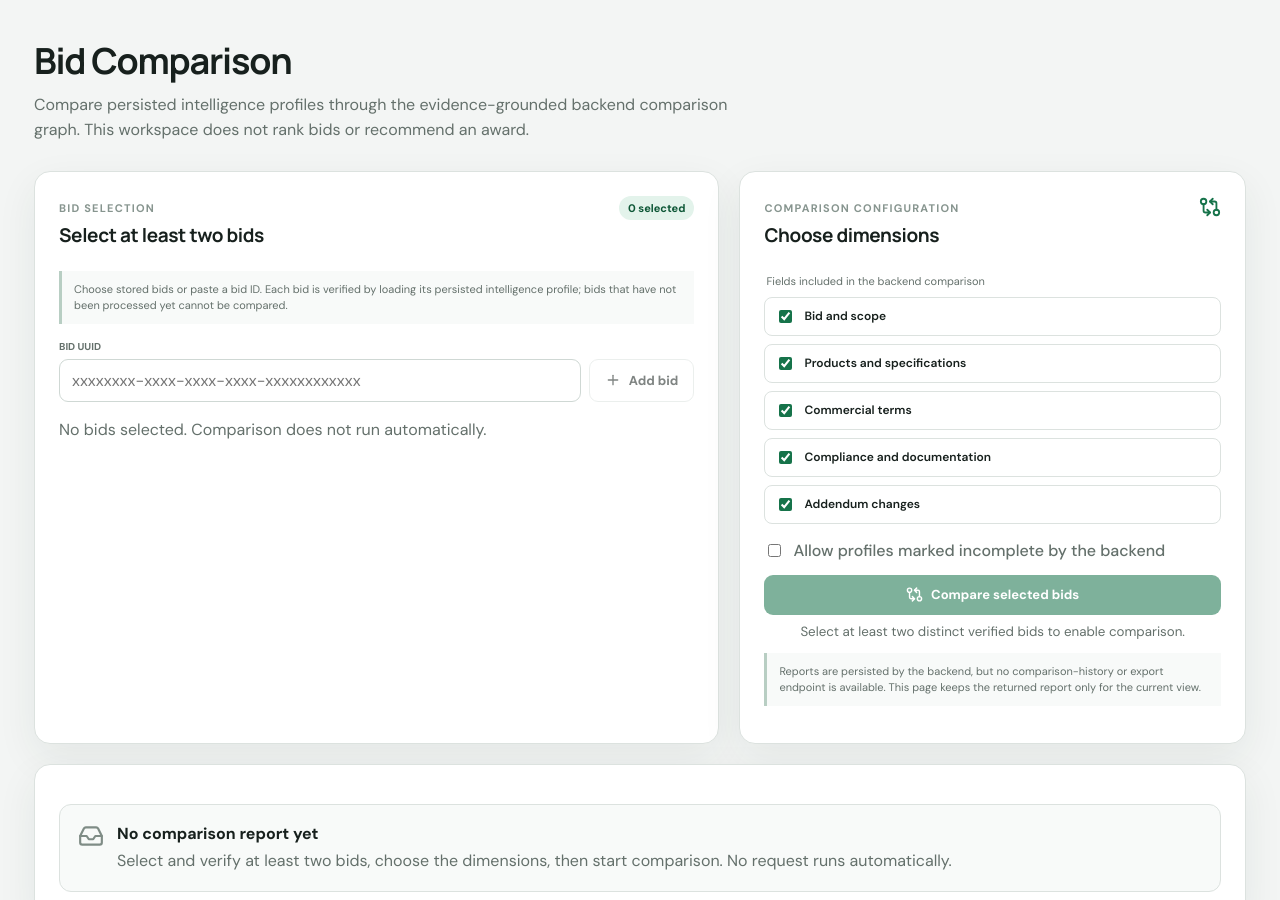
Test: Bid Comparison page › verifies stable bid IDs, prevents duplicates, and requires two bids
Expected: the text "Choose stored bids or paste a bid ID" is shown, left=74, top=282, right=676, bottom=312
Expected: the button "Compare selected bids" is disabled, left=764, top=575, right=1221, bottom=615
Type "11111111-1111-4111-8111-111111111111" into the field labelled "Bid UUID".
click(320, 380); type("11111111-1111-4111-8111-111111111111")  # box left=59, top=359, right=581, bottom=402
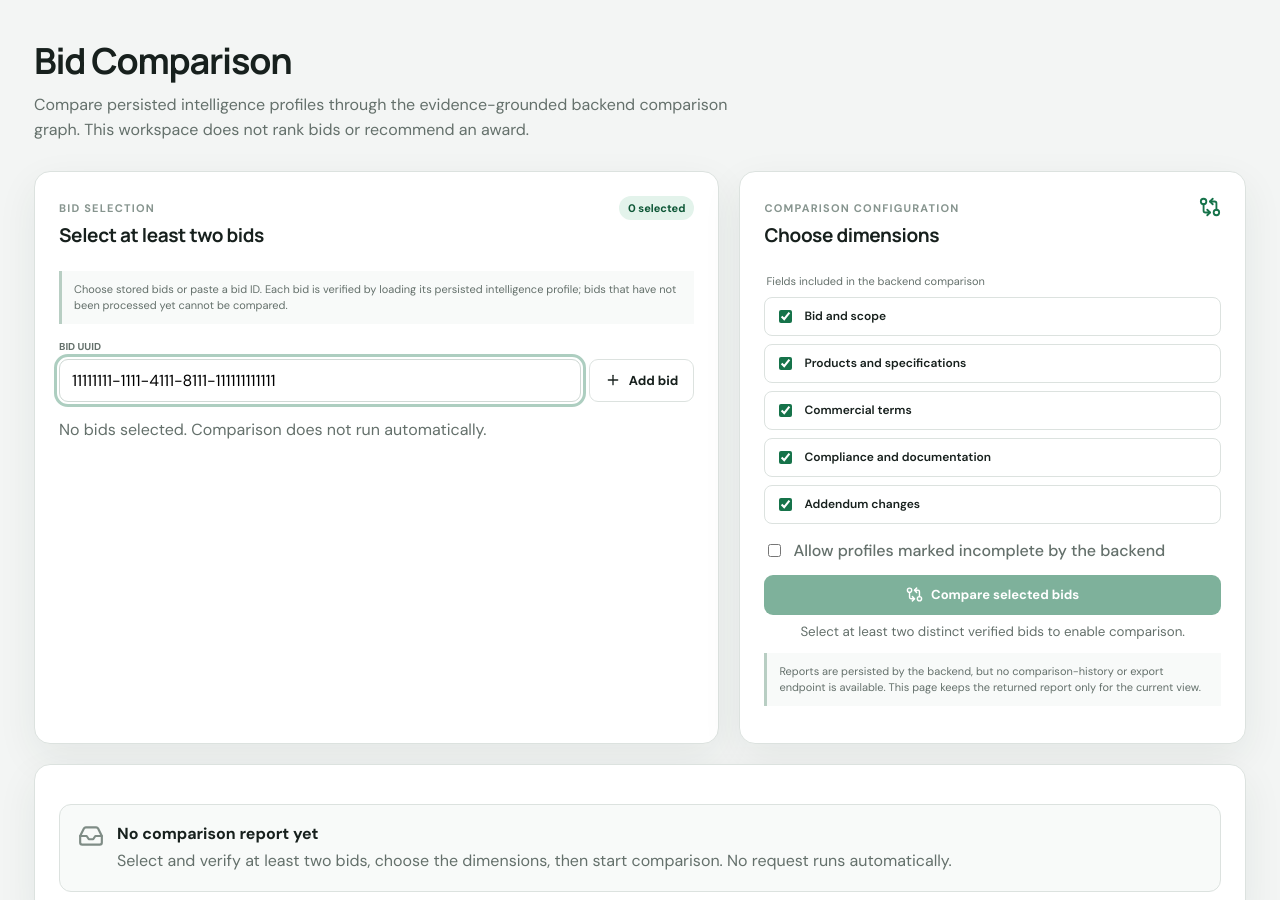
Click the button "Add bid".
click(642, 380)  # box left=589, top=359, right=694, bottom=402
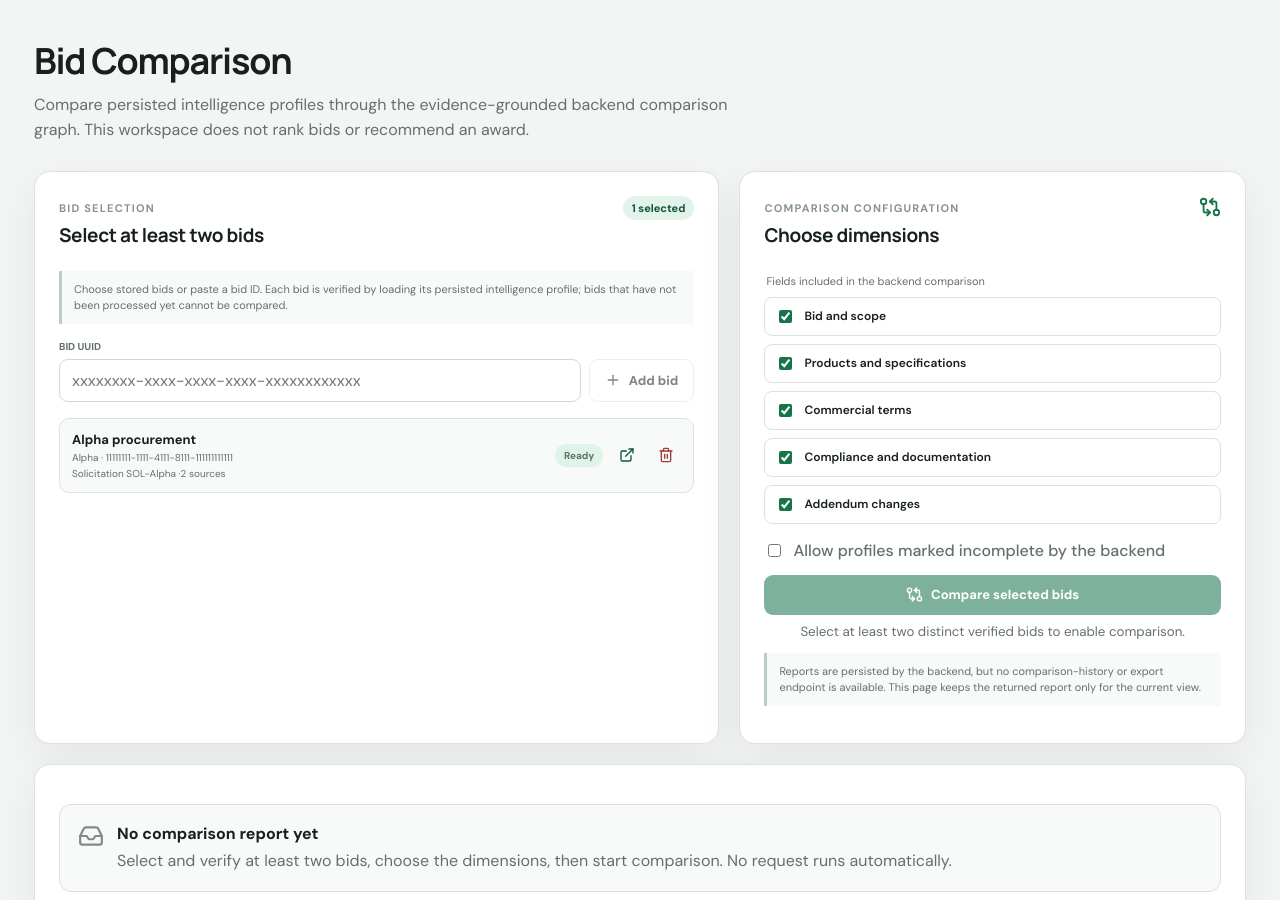
Expected: the button "Compare selected bids" is disabled, left=764, top=575, right=1221, bottom=615
Now the text "Alpha procurement" is shown, box left=72, top=431, right=196, bottom=448
Type "11111111-1111-4111-8111-111111111111" into the field labelled "Bid UUID".
click(320, 380); type("11111111-1111-4111-8111-111111111111")  # box left=59, top=359, right=581, bottom=402
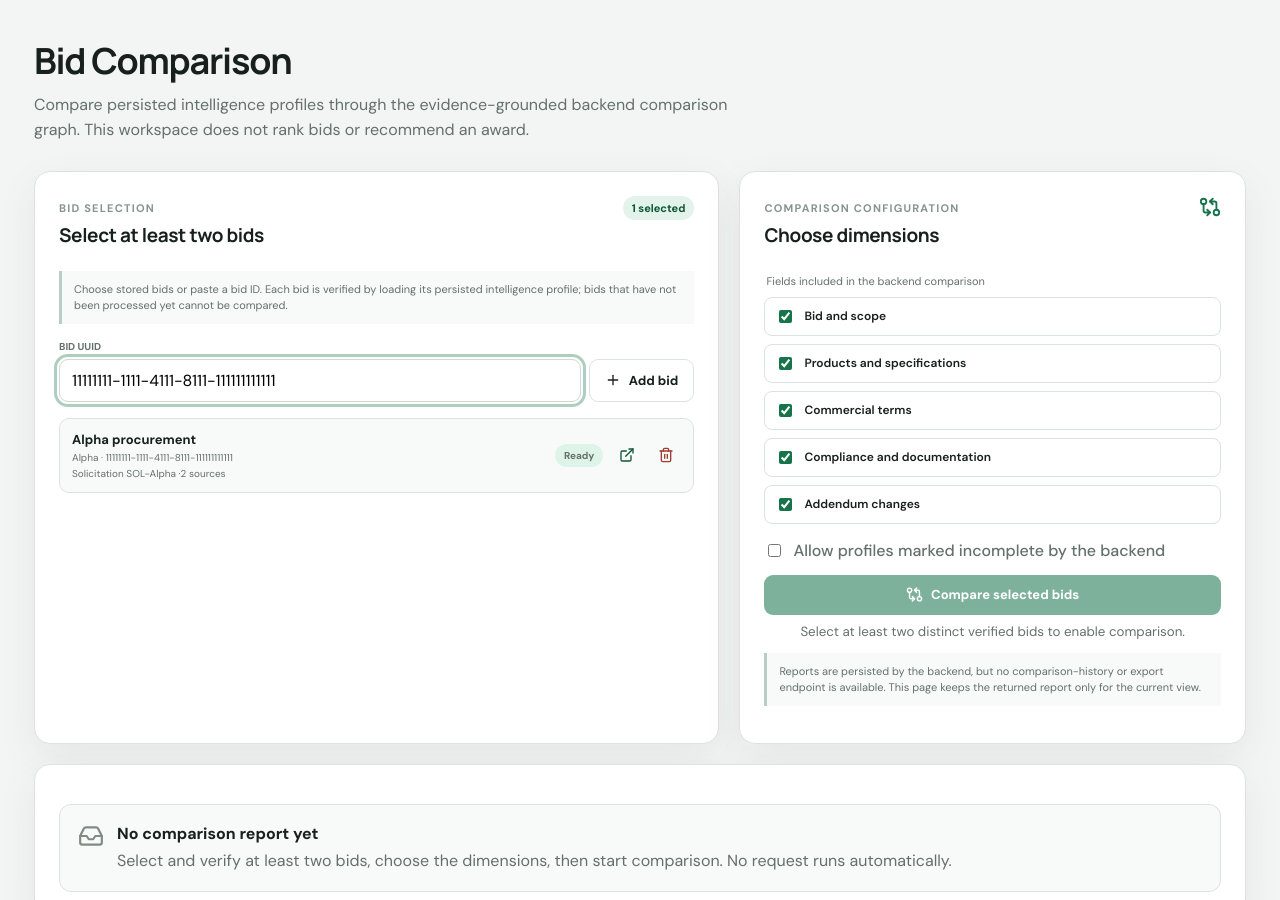
Click the button "Add bid".
click(642, 380)  # box left=589, top=359, right=694, bottom=402
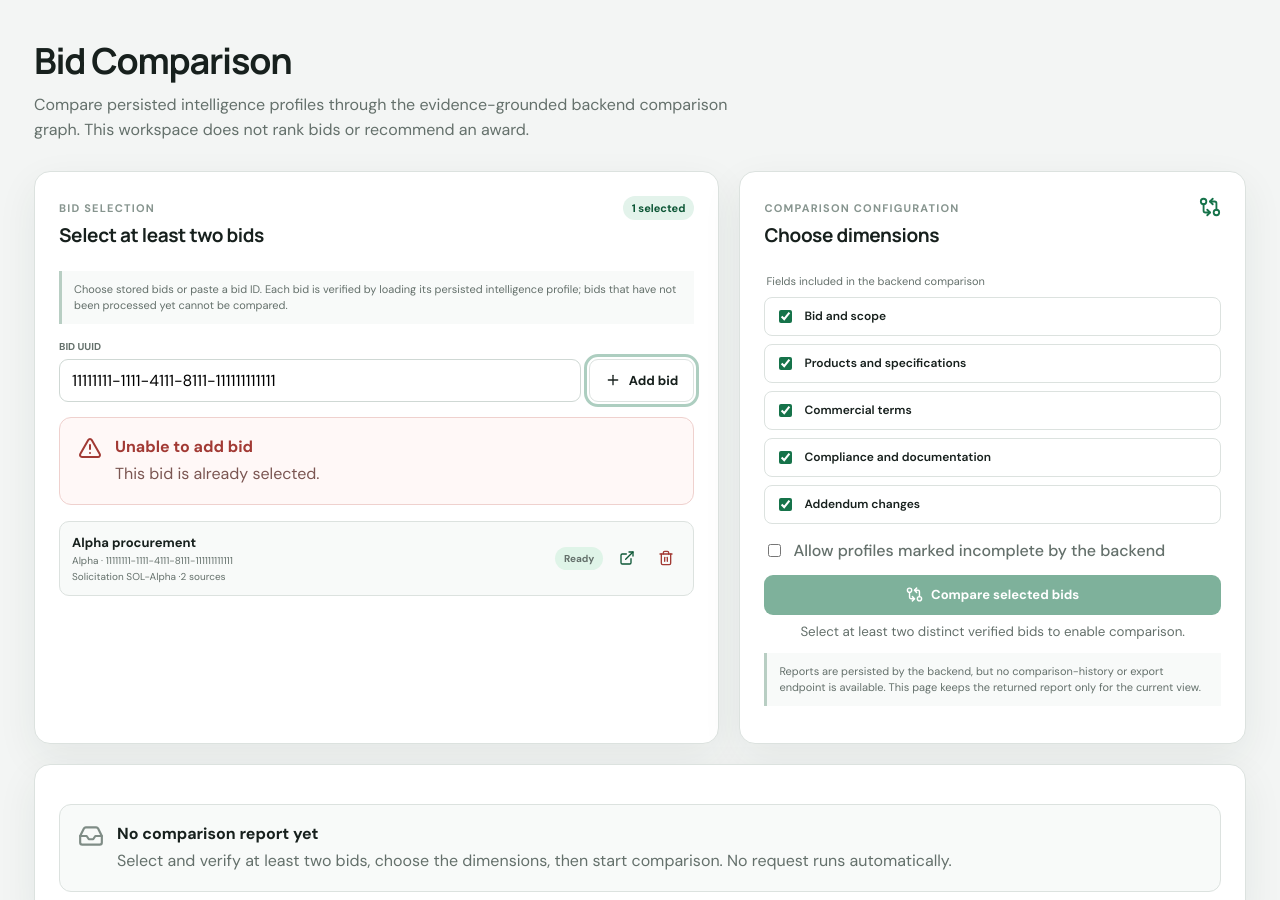
Now the message shows "already selected", box left=115, top=463, right=320, bottom=484
